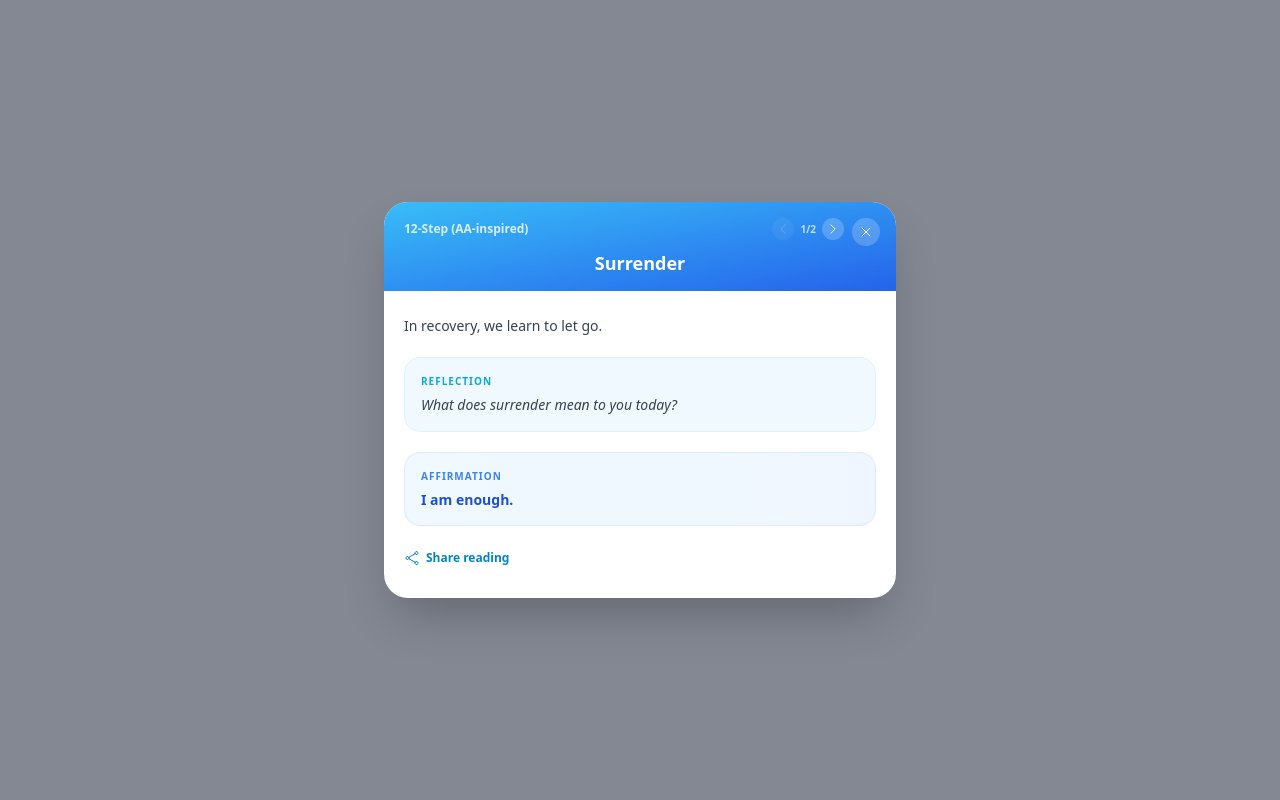
Test: ReadingModal — navigation › advances to the next reading on next button click
Check: the heading "Surrender" is shown, box [595,251,685,275]
Click the button named "Next reading": [833, 229] box [822,218,844,240]
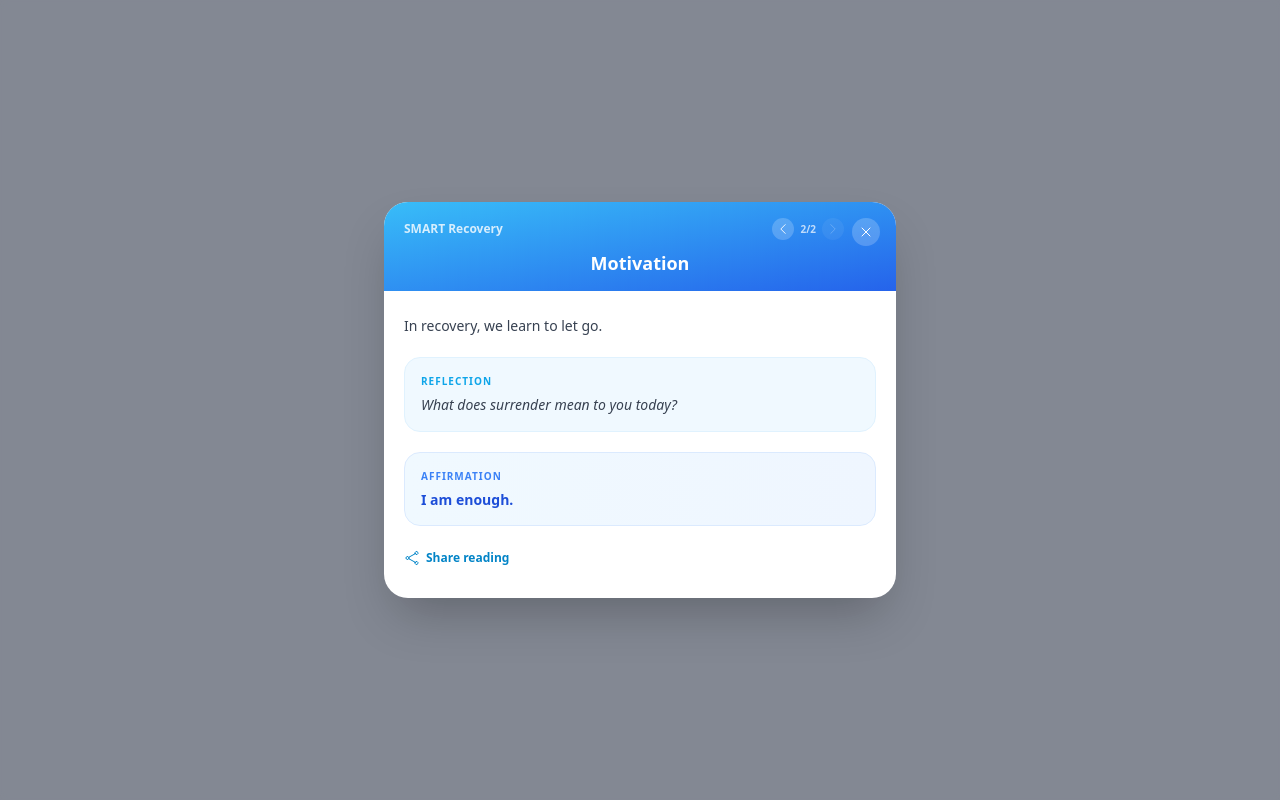
Check: the heading "Motivation" is shown, box [591,251,689,275]
